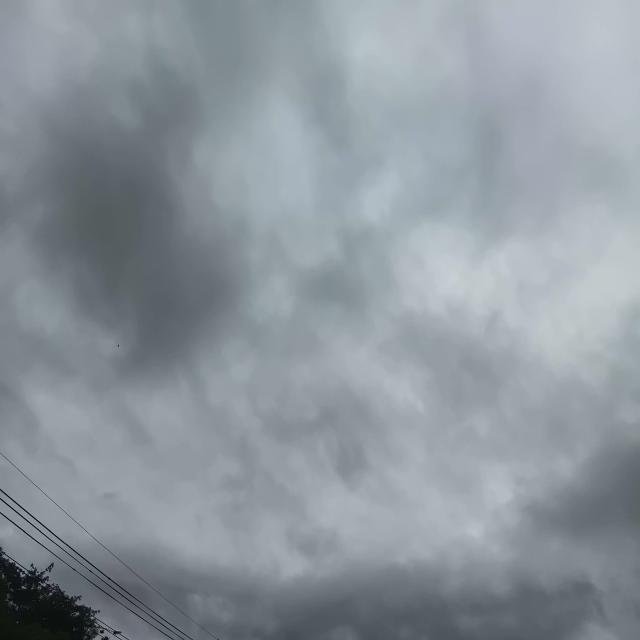nimbostratus: (53, 19, 639, 504), (185, 538, 639, 636)
